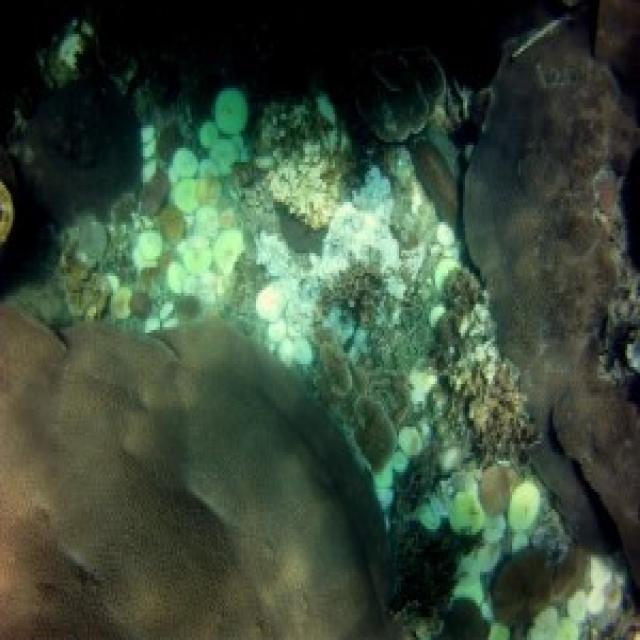Bleached: (261, 208, 640, 640), (35, 90, 468, 333)
Healthy: (2, 314, 405, 640), (470, 23, 640, 575)
